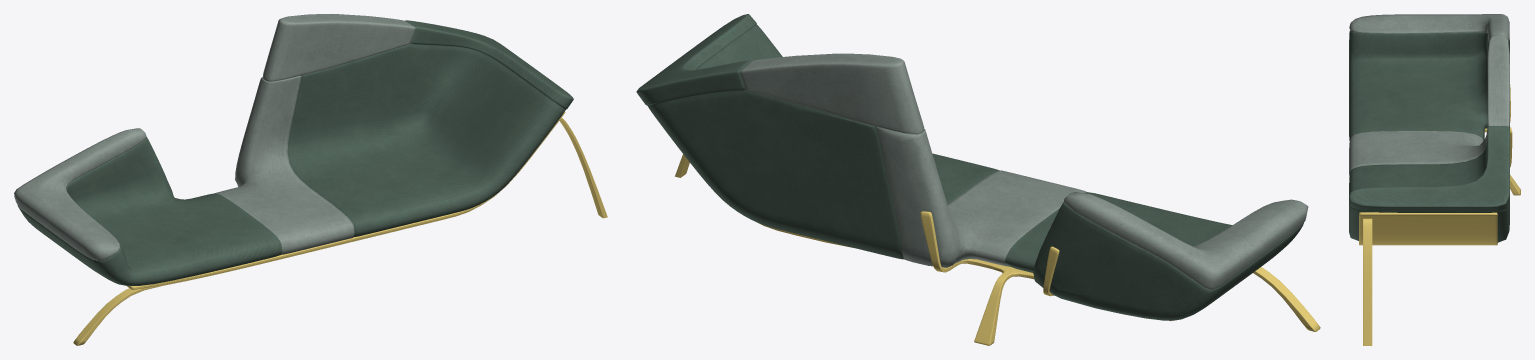
The model's file is couch-transformed.glb.
3 views of the same model, side by side, from view 1: azimuth 30°, elevation 25°; view 2: azimuth 150°, elevation 25°; view 3: azimuth 270°, elevation 25° (orthographic). The views are drawn at different scales.
Visible parts, largest first — view 1: DelicaCouch_DarkerFabric_0, DelicaCouch_LightFabric_0, DelicaCouch_Gold_0; view 2: DelicaCouch_DarkerFabric_0, DelicaCouch_LightFabric_0, DelicaCouch_Gold_0; view 3: DelicaCouch_DarkerFabric_0, DelicaCouch_LightFabric_0, DelicaCouch_Gold_0.
Boxes of the visible parts, x1,y1,x2,y2 form: DelicaCouch_DarkerFabric_0: [17, 20, 573, 285]; DelicaCouch_LightFabric_0: [14, 14, 415, 260]; DelicaCouch_Gold_0: [73, 111, 607, 345]; DelicaCouch_DarkerFabric_0: [636, 14, 1303, 320]; DelicaCouch_LightFabric_0: [740, 53, 1308, 289]; DelicaCouch_Gold_0: [675, 154, 1320, 345]; DelicaCouch_DarkerFabric_0: [1349, 30, 1509, 242]; DelicaCouch_LightFabric_0: [1349, 14, 1509, 175]; DelicaCouch_Gold_0: [1359, 84, 1520, 345].
Size of the model in its own units: 3.98 by 1.47 by 1.18.
Materials: 3 (2 with a texture image).
